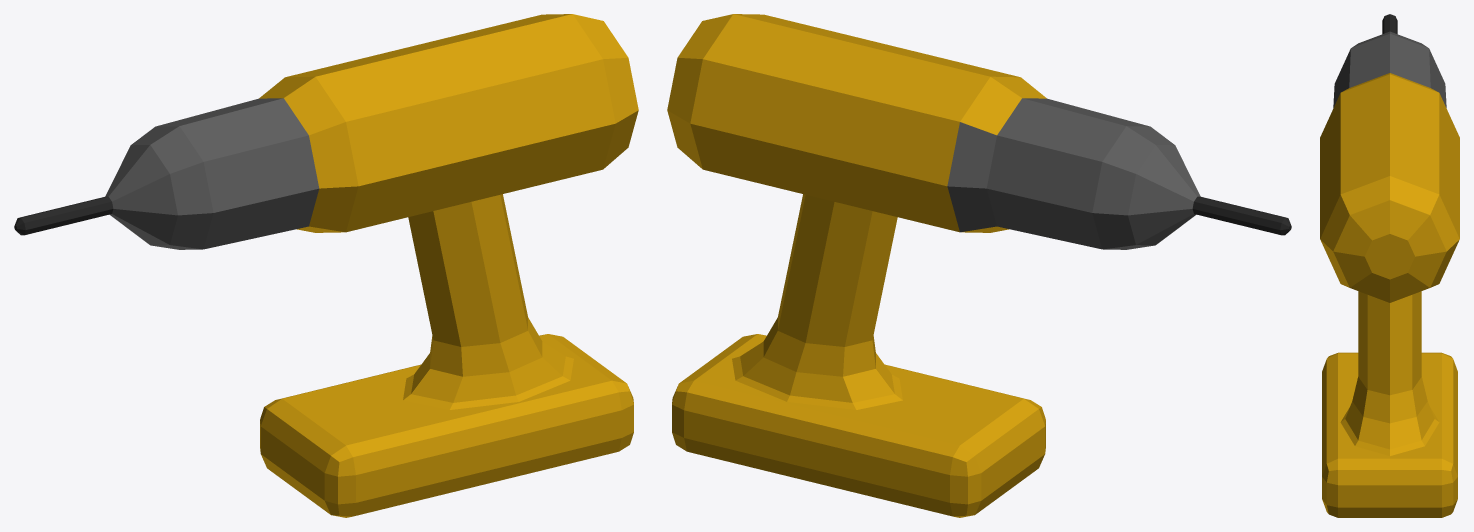
File: Drill.fbx
3 views of the same model, side by side, from view 1: azimuth 30°, elevation 25°; view 2: azimuth 150°, elevation 25°; view 3: azimuth 270°, elevation 25° (orthographic). The views are drawn at different scales.
Visible parts, largest first — view 1: Drill; view 2: Drill; view 3: Drill.
Part boxes in pixels (<box>): Drill: <box>14,14,638,517</box>; Drill: <box>667,14,1291,517</box>; Drill: <box>1320,14,1459,517</box>.
Bounding box in the file's own units: 0.3223 × 0.214 × 0.0801.
Materials: 1 (1 with a texture image).
